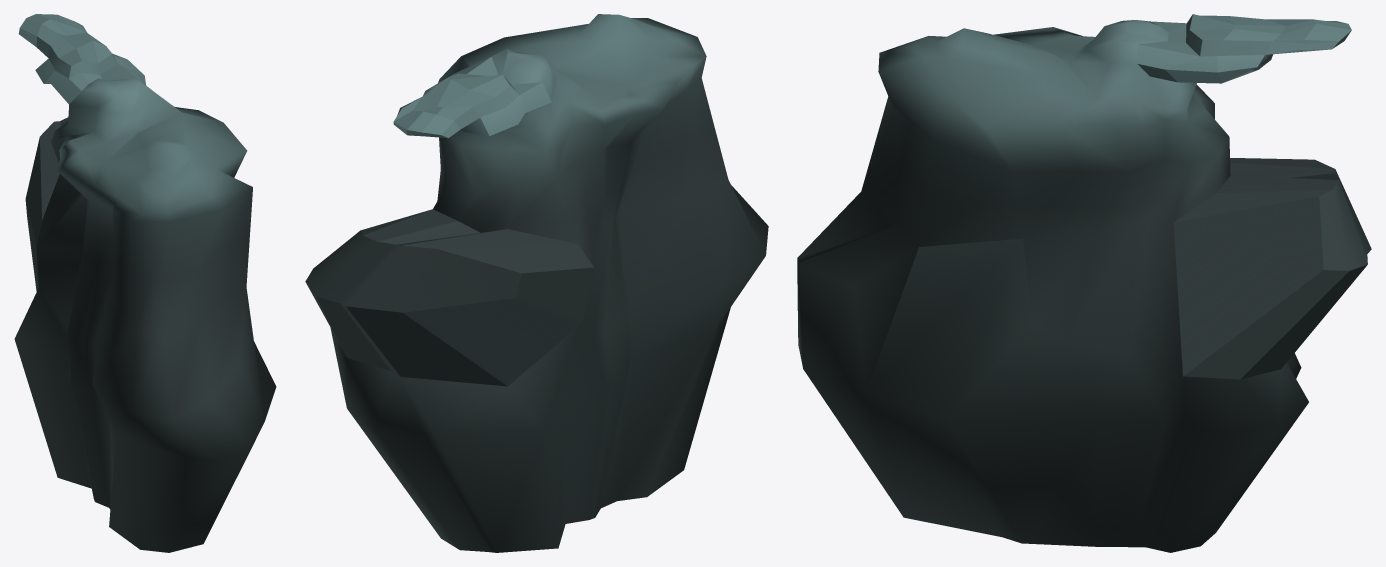
The model's file is island03.fbx.
3 renders of one model, left to right at view 1: azimuth 30°, elevation 25°; view 2: azimuth 150°, elevation 25°; view 3: azimuth 270°, elevation 25°, orthographic. The views are drawn at different scales.
Visible parts, largest first — view 1: ISLAND_03_BASE; view 2: ISLAND_03_BASE; view 3: ISLAND_03_BASE.
Boxes of the visible parts, x1=… form: ISLAND_03_BASE: x1=14, y1=14, x2=276, y2=552; ISLAND_03_BASE: x1=305, y1=14, x2=768, y2=552; ISLAND_03_BASE: x1=797, y1=14, x2=1371, y2=552.
Bounding box in the file's own units: 29.23 × 50.79 × 52.49.
